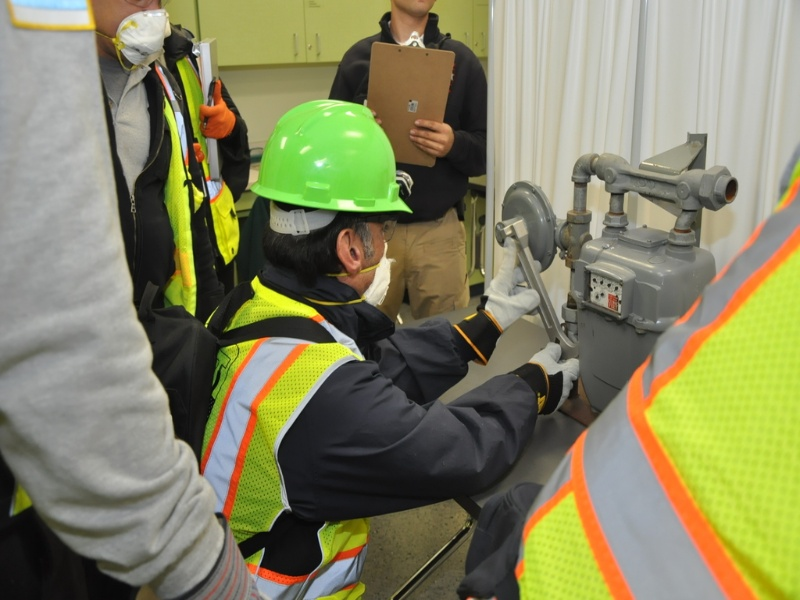helmet: (257, 96, 415, 213)
jacket: (525, 219, 800, 597), (204, 271, 368, 600), (148, 47, 256, 312)
